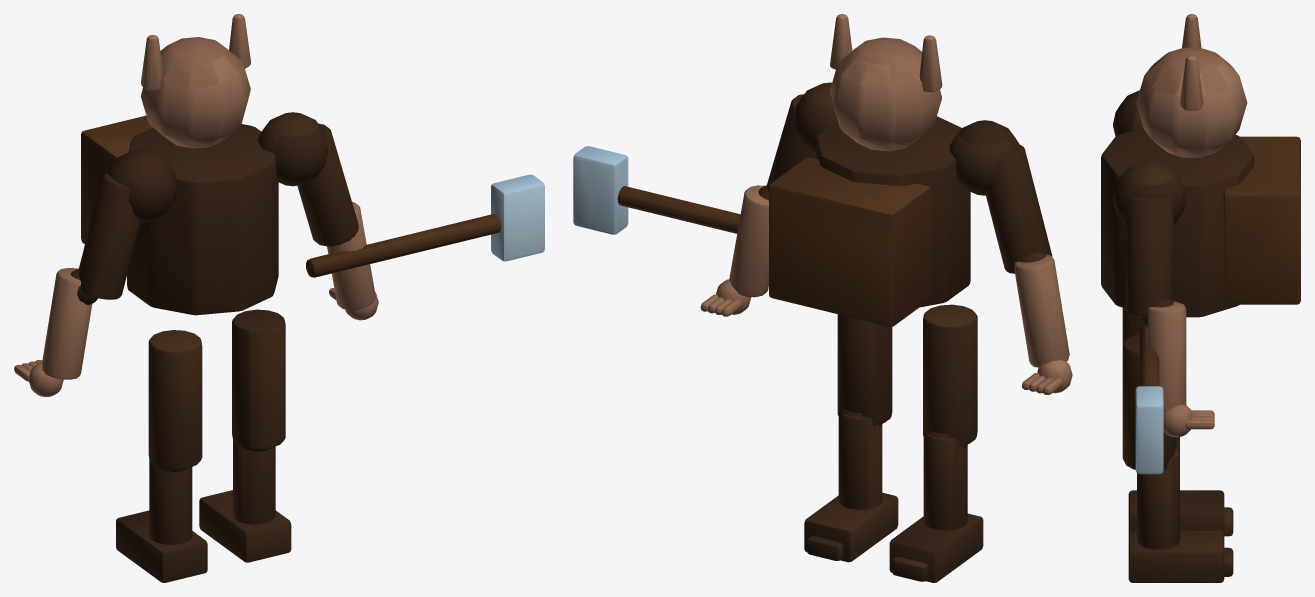
Rendered from unit_outcast_hobgoblin.fbx.
3 renders of one model, left to right at view 1: azimuth 30°, elevation 25°; view 2: azimuth 150°, elevation 25°; view 3: azimuth 270°, elevation 25°, orthographic. The views are drawn at different scales.
Parts seen in each view (by area): view 1: unit_outcast_hobgoblin; view 2: unit_outcast_hobgoblin; view 3: unit_outcast_hobgoblin.
Part boxes in pixels (bbox=[...]): unit_outcast_hobgoblin: bbox=[14, 14, 544, 582]; unit_outcast_hobgoblin: bbox=[573, 14, 1072, 582]; unit_outcast_hobgoblin: bbox=[1101, 14, 1300, 582].
Bounding box in the file's own units: 1.61 × 1.62 × 0.5679.
